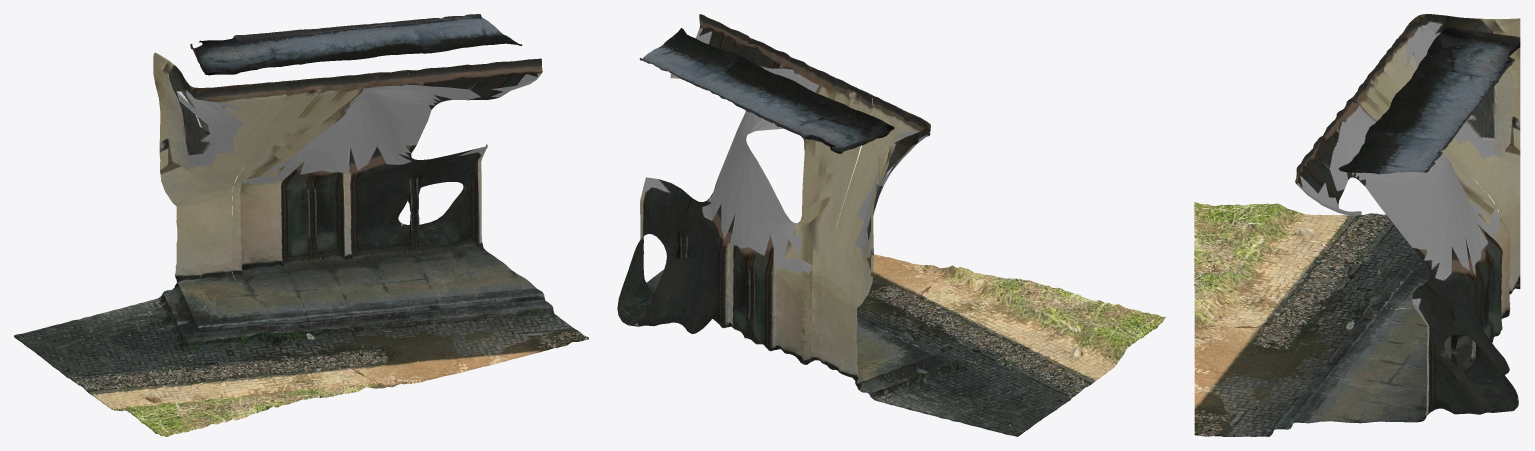
The picture shows the model from 3 angles, left to right: view 1: azimuth 30°, elevation 25°; view 2: azimuth 150°, elevation 25°; view 3: azimuth 270°, elevation 25°; orthographic projection. The views are drawn at different scales.
Parts seen in each view (by area): view 1: node_96; view 2: node_96; view 3: node_96.
Part boxes in pixels (x1=…): node_96: x1=14, y1=14, x2=588, y2=436; node_96: x1=617, y1=14, x2=1165, y2=436; node_96: x1=1194, y1=14, x2=1520, y2=436.
Bounding box in the file's own units: 8.99 × 5.12 × 5.52.
1 material, 1 textured.
